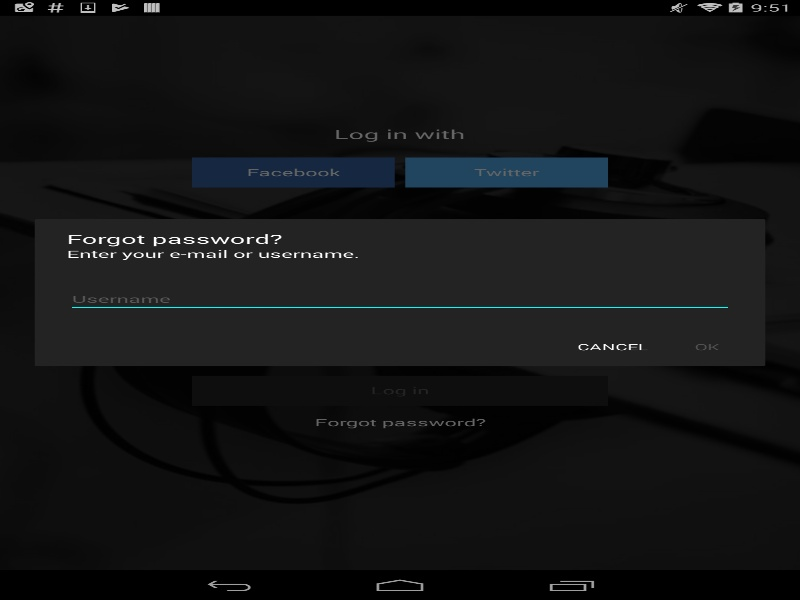Button: (561, 330, 664, 363), (664, 330, 749, 363)
Input: (66, 292, 733, 312)
